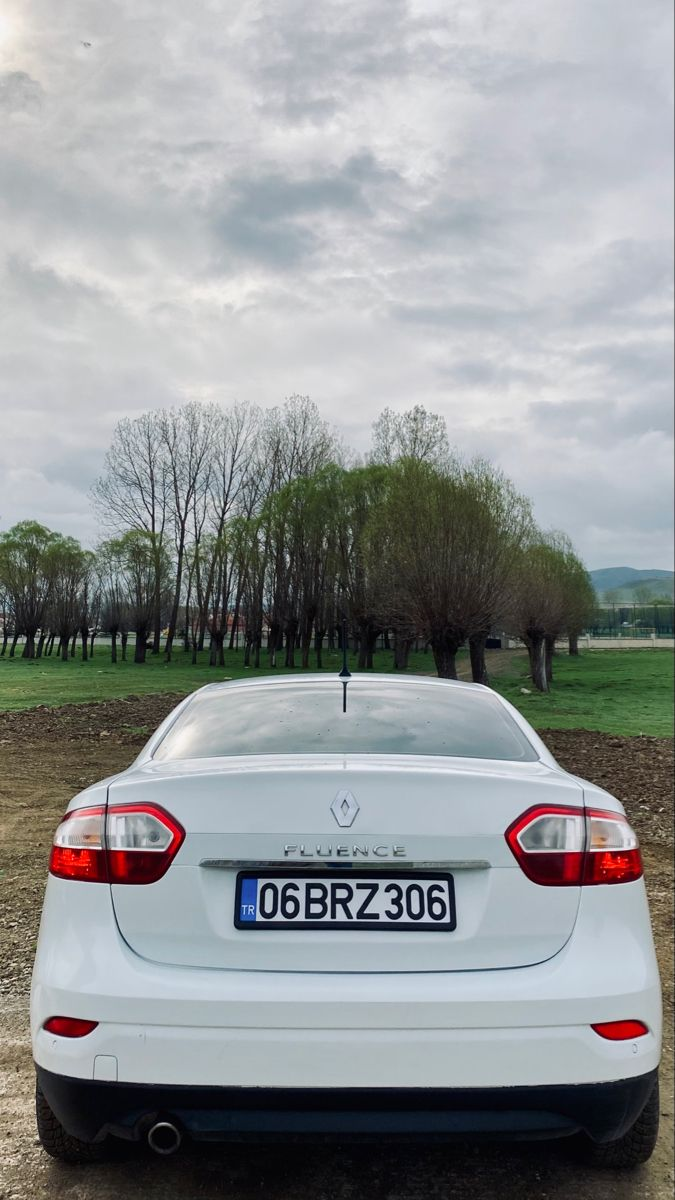plate: (225, 867, 474, 928)
